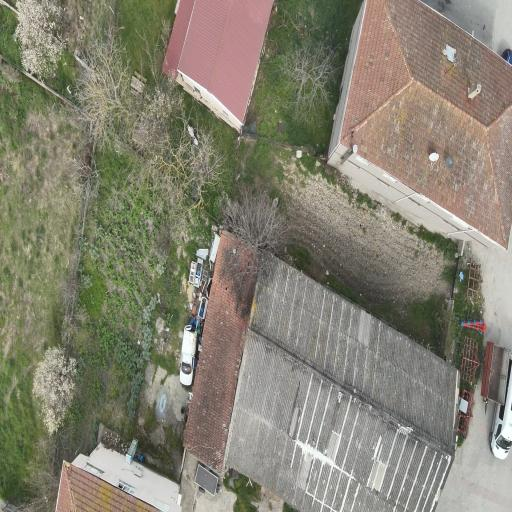car: (490, 356, 511, 459), (179, 325, 196, 385)
